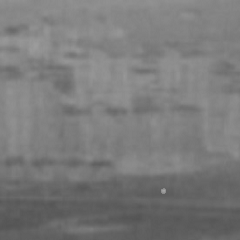Target: (160, 187, 167, 195)
